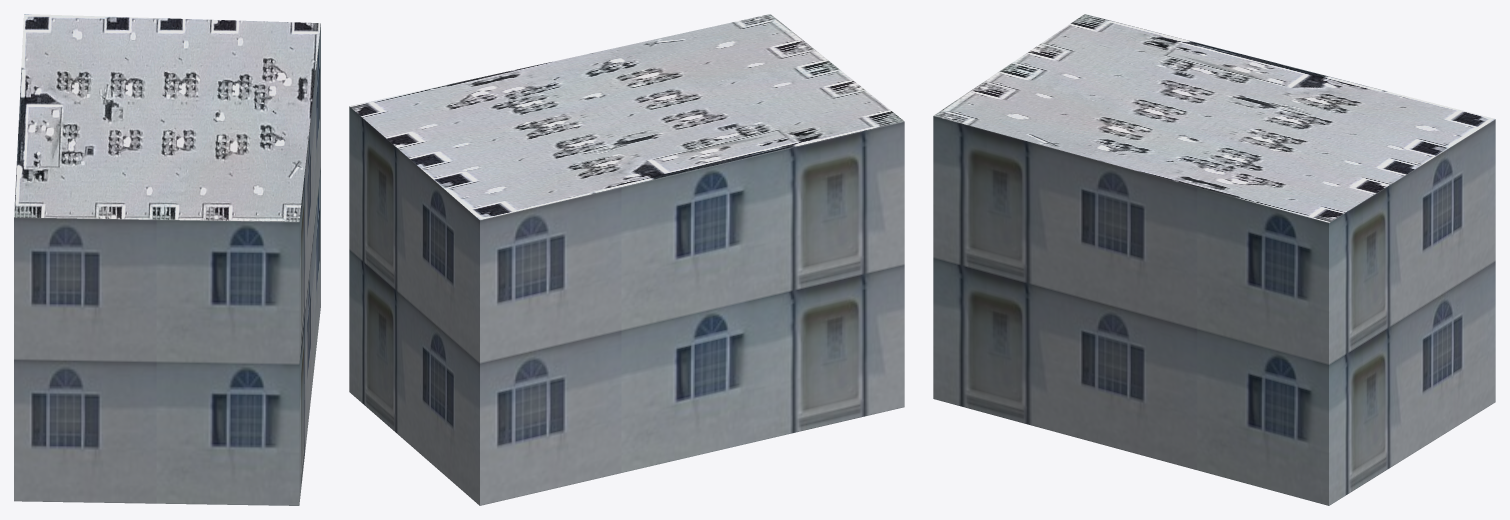
File: ResTex__1944.fbx
The picture shows the model from 3 angles, left to right: view 1: azimuth 30°, elevation 25°; view 2: azimuth 150°, elevation 25°; view 3: azimuth 270°, elevation 25°; orthographic projection.
Visible parts, largest first — view 1: CityEngineMaterial_17_m, CityEngineMaterial_8_m; view 2: CityEngineMaterial_17_m, CityEngineMaterial_8_m; view 3: CityEngineMaterial_17_m, CityEngineMaterial_8_m.
Part boxes in pixels (x1=…): CityEngineMaterial_17_m: x1=14, y1=24, x2=320, y2=505; CityEngineMaterial_8_m: x1=14, y1=14, x2=320, y2=221; CityEngineMaterial_17_m: x1=349, y1=106, x2=904, y2=505; CityEngineMaterial_8_m: x1=349, y1=14, x2=904, y2=219; CityEngineMaterial_17_m: x1=933, y1=116, x2=1495, y2=505; CityEngineMaterial_8_m: x1=933, y1=14, x2=1495, y2=222.
Size of the model in its own units: 9.49 by 6 by 10.81.
2 materials, 2 textured.
